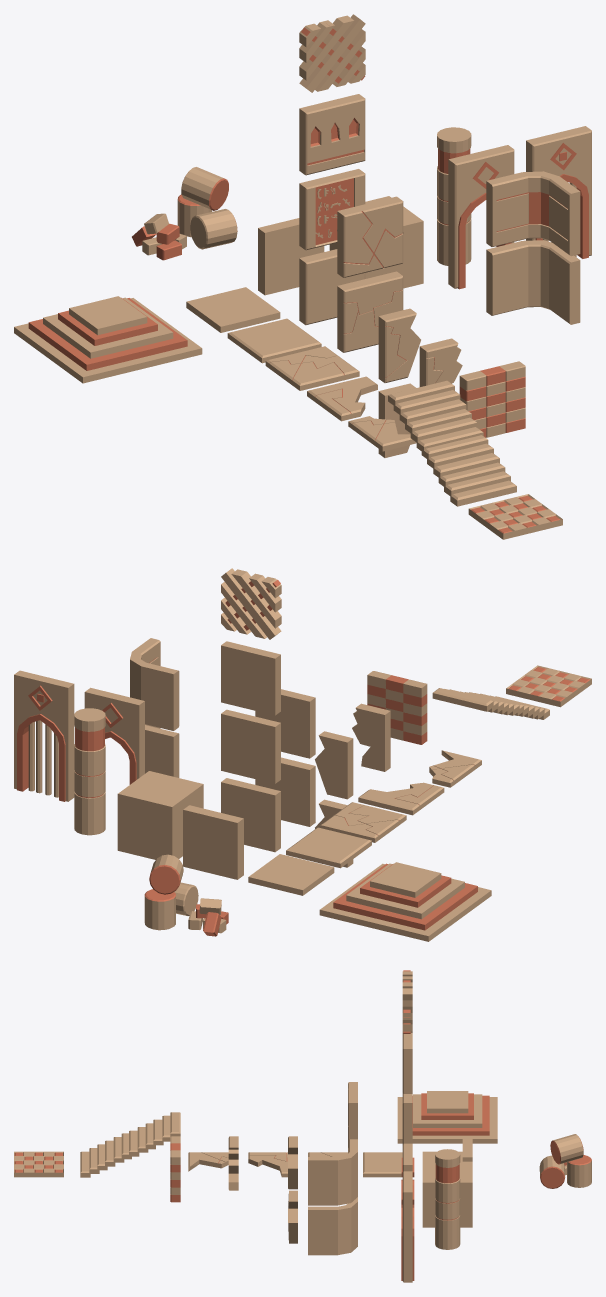
The model's file is Ruin_Level_Objects.dae.
The picture shows the model from 3 angles, top to bottom: view 1: azimuth 30°, elevation 25°; view 2: azimuth 150°, elevation 25°; view 3: azimuth 270°, elevation 25°; orthographic projection. The views are drawn at different scales.
Visible parts, largest first — view 1: Stair_Things, Stairs_Norm, Wall_curved_two, Wall_curved, Wall_Broken_Two, Wall_carved, Archway, Wall_cross, Archway_barred, Wall_Bricks, Wall_Broken, Wall_Runes (+15 smaller); view 2: Stair_Things, Archway_barred, TileSize, Pillar, Wall, Wall_Runes, Wall_carved, Wall_cross, Wall_curved_two, Wall_Bricks, Wall_norm, Archway (+14 smaller); view 3: Stair_Things, Stairs_Norm, Wall_curved_two, Pillar, Wall_curved, Debris_Pillar, TileSize, Archway_barred, Floor_Bricks, Floor_Norm, Wall_Bricks, Wall_cross (+9 smaller).
Part boxes in pixels (x1,y1,x2,y2): Stair_Things: [14, 296, 202, 383]; Stairs_Norm: [388, 380, 516, 506]; Wall_curved_two: [486, 171, 580, 256]; Wall_curved: [486, 240, 580, 324]; Wall_Broken_Two: [337, 196, 403, 277]; Wall_carved: [299, 94, 365, 175]; Archway: [448, 145, 514, 289]; Wall_cross: [299, 14, 365, 92]; Archway_barred: [526, 126, 591, 258]; Wall_Bricks: [459, 361, 525, 437]; Wall_Broken: [337, 271, 403, 352]; Wall_Runes: [299, 169, 365, 250]; Stair_Things: [319, 862, 491, 941]; Archway_barred: [14, 670, 74, 801]; TileSize: [117, 771, 203, 859]; Pillar: [74, 708, 105, 835]; Wall: [183, 805, 243, 879]; Wall_Runes: [221, 709, 280, 783]; Wall_carved: [221, 641, 280, 715]; Wall_cross: [221, 568, 281, 639]; Wall_curved_two: [130, 638, 179, 730]; Wall_Bricks: [367, 671, 427, 744]; Wall_norm: [221, 778, 280, 852]; Archway: [84, 687, 144, 784]; Stair_Things: [397, 1091, 497, 1143]; Stairs_Norm: [80, 1112, 180, 1177]; Wall_curved_two: [308, 1139, 357, 1205]; Pillar: [435, 1149, 460, 1249]; Wall_curved: [308, 1197, 357, 1255]; Debris_Pillar: [539, 1134, 591, 1188]; TileSize: [422, 1161, 472, 1227]; Archway_barred: [401, 1171, 414, 1282]; Floor_Bricks: [14, 1151, 63, 1177]; Floor_Norm: [363, 1152, 402, 1177]; Wall_Bricks: [170, 1136, 180, 1202]; Wall_cross: [402, 970, 412, 1033].
Size of what is drawn, in the model's own units: 86 by 116 by 59.01.
